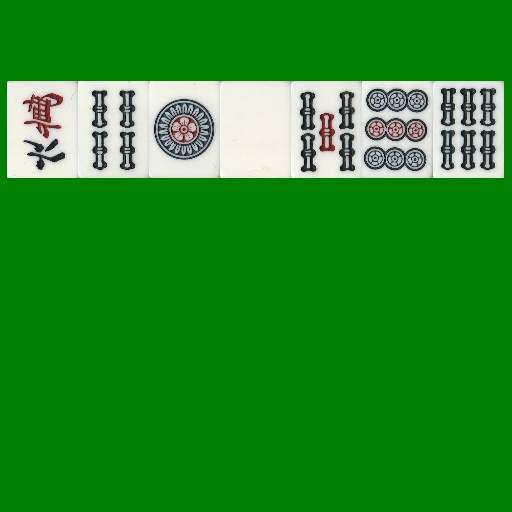1p: (149, 81, 220, 178)
4s: (78, 81, 149, 178)
5s: (291, 81, 362, 178)
6m: (7, 81, 78, 178)
6s: (433, 81, 504, 178)
9p: (362, 81, 433, 178)
white: (220, 81, 291, 178)
